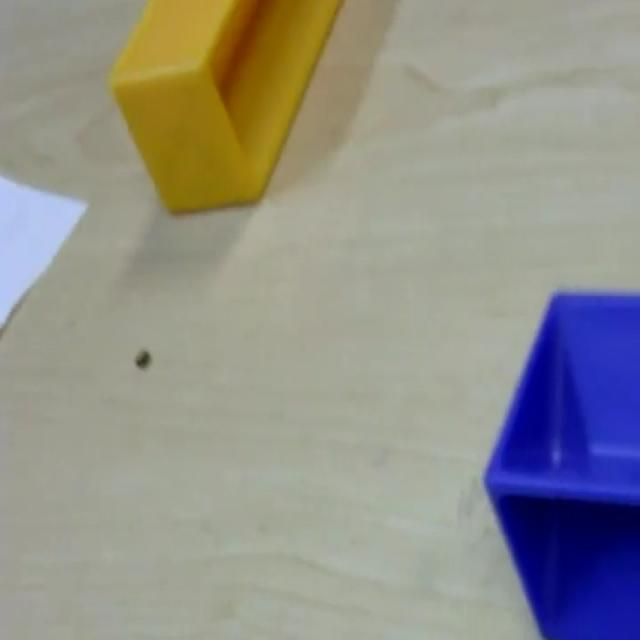blue_block: (482, 285, 638, 636)
yellow_block: (108, 0, 343, 215)
